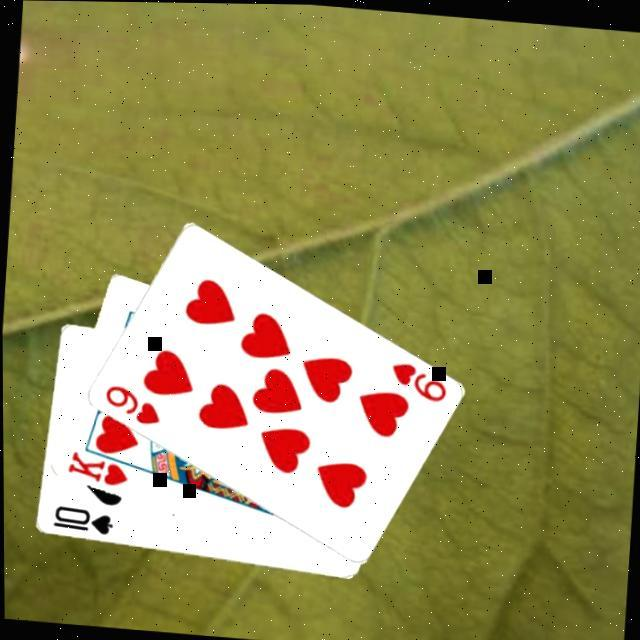10S: (46, 499, 114, 537)
9H: (382, 355, 448, 402), (97, 378, 161, 426)
KH: (60, 444, 128, 488)
